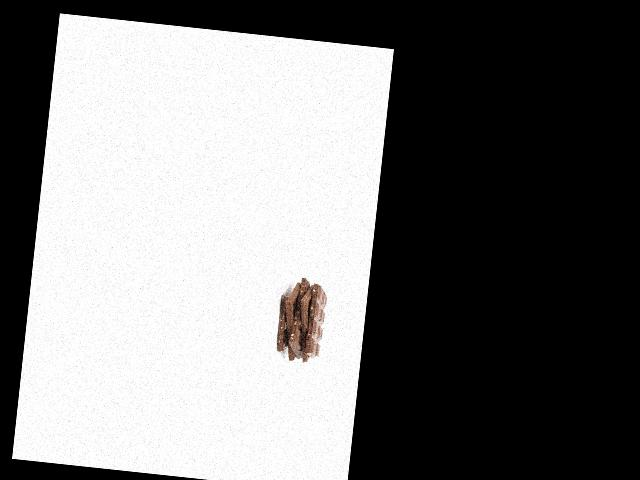chocolate: (270, 280, 309, 360)
